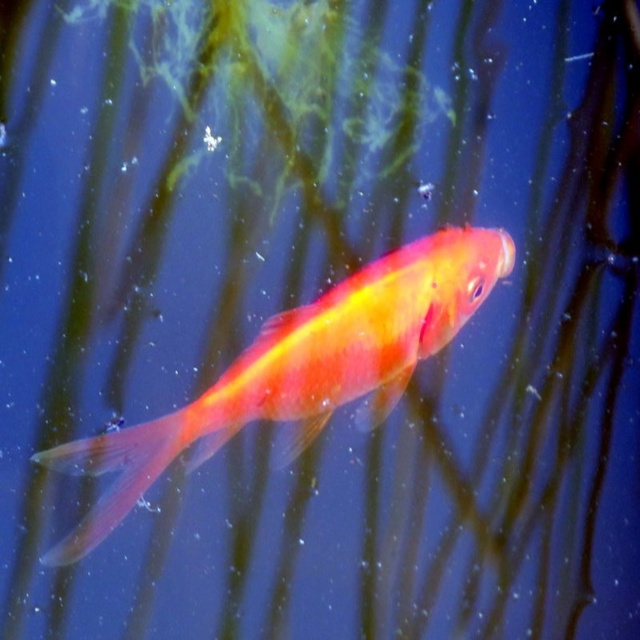Goldfish: (33, 220, 511, 568)
